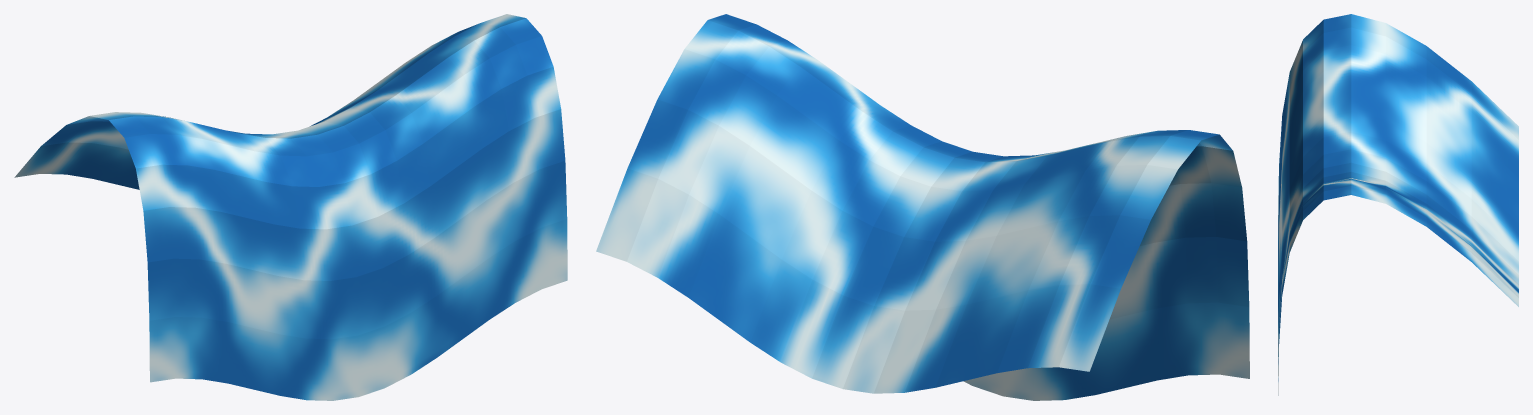
Rendered from vfx_wave_sheet.obj.
The picture shows the model from 3 angles, left to right: view 1: azimuth 30°, elevation 25°; view 2: azimuth 150°, elevation 25°; view 3: azimuth 270°, elevation 25°; orthographic projection. The views are drawn at different scales.
Size of the model in its own units: 1.6 by 1.09 by 0.9.
